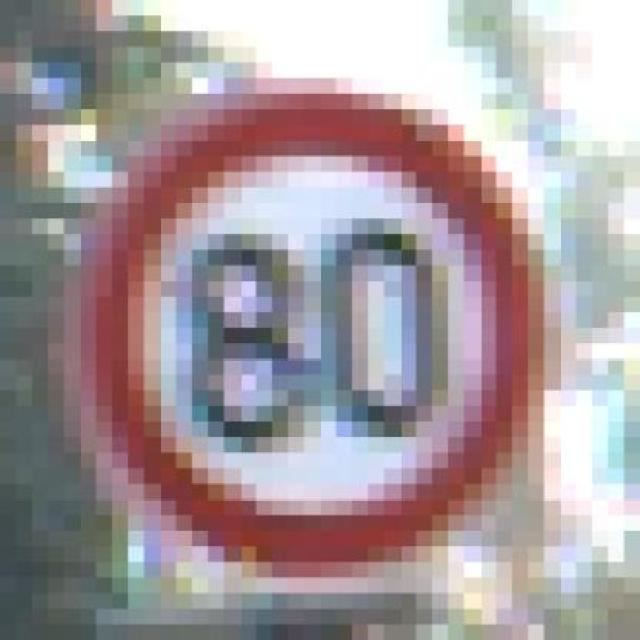forb_speed_over_80: (93, 94, 541, 566)
